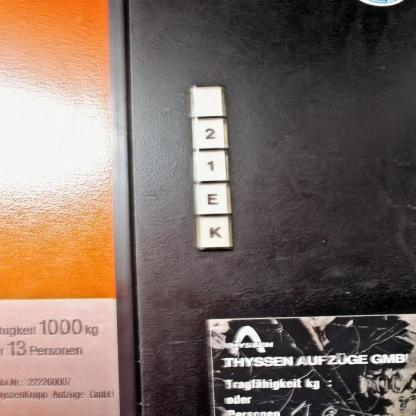1: (192, 147, 230, 182)
2: (191, 115, 228, 150)
E: (193, 180, 232, 215)
K: (195, 213, 233, 251)
empty: (189, 83, 227, 118)
